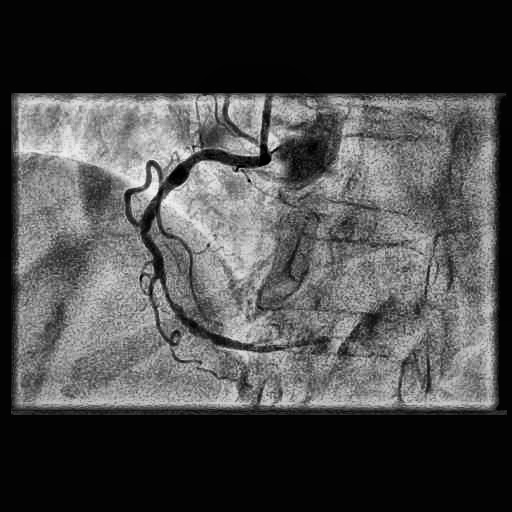pda: (248, 335, 320, 352)
rca: (141, 149, 260, 351)
